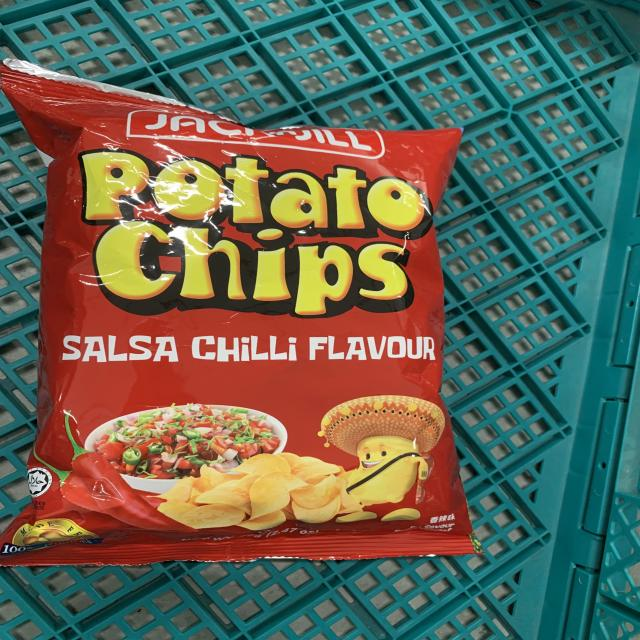object_name: (51, 102, 455, 559)
